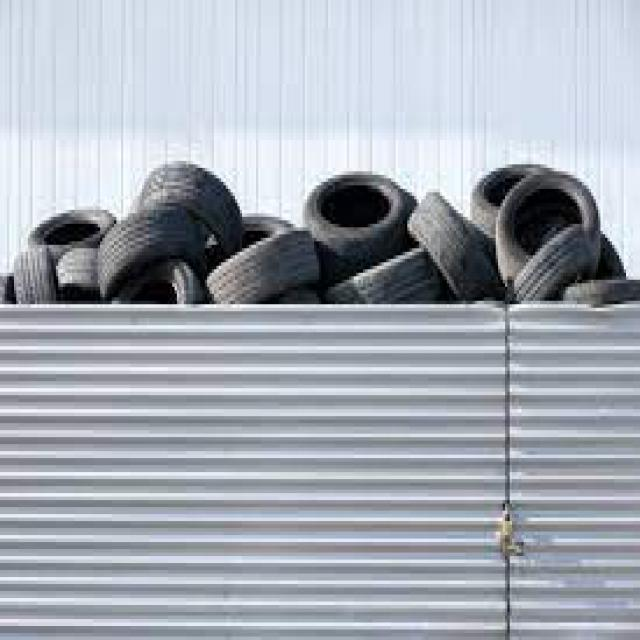Rubber -Non-Biodegradable but Recyclable-: (3, 161, 637, 298)
